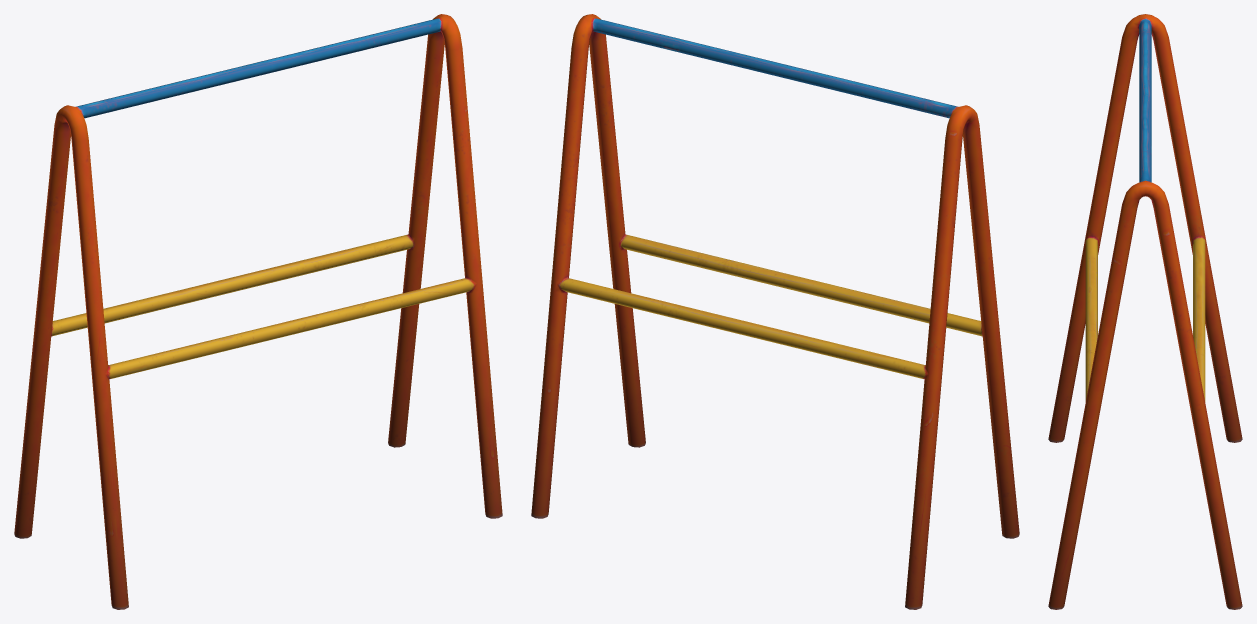
Rendered from beater.gltf.
3 renders of one model, left to right at view 1: azimuth 30°, elevation 25°; view 2: azimuth 150°, elevation 25°; view 3: azimuth 270°, elevation 25°, orthographic. The views are drawn at different scales.
Parts seen in each view (by area): view 1: Beater; view 2: Beater; view 3: Beater.
Boxes of the visible parts, box(x1,y1,x2,y2) form: Beater: box(14, 14, 502, 609); Beater: box(531, 14, 1019, 609); Beater: box(1048, 14, 1242, 609).
Bounding box in the file's own units: 1.56 × 1.78 × 0.7373.
Materials: 1 (1 with a texture image).
